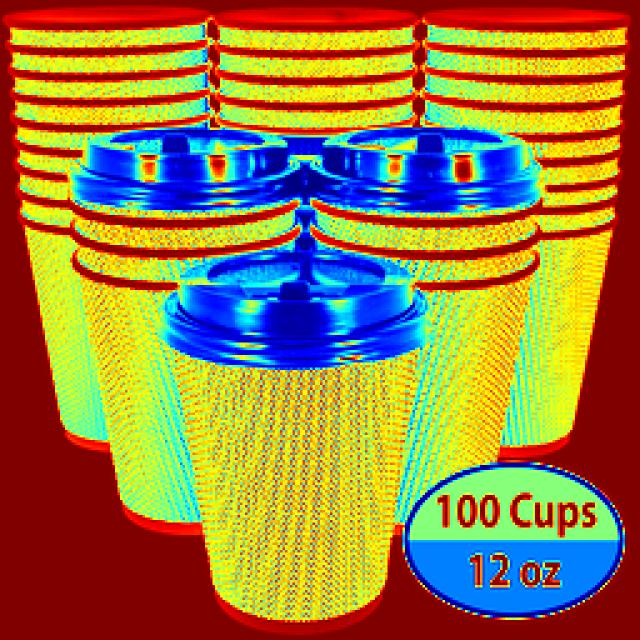Paper Cups: (161, 248, 414, 640), (427, 16, 626, 470), (5, 3, 206, 364), (310, 123, 535, 428), (82, 130, 266, 438), (210, 0, 414, 140)
